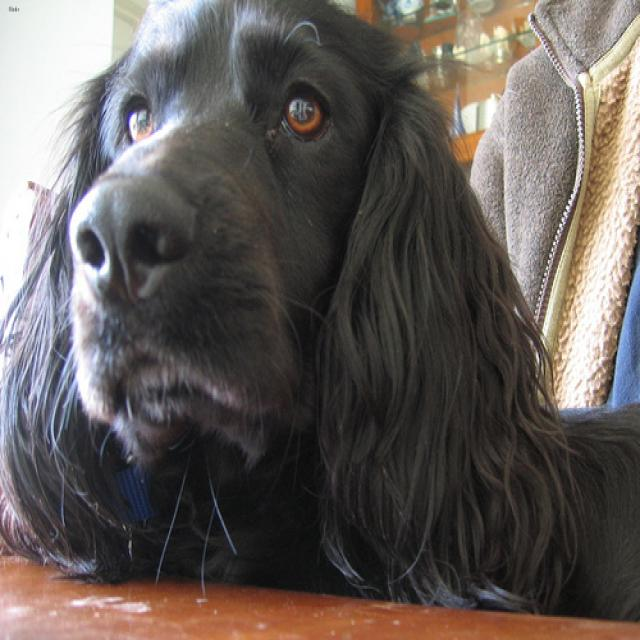dog-english_cocker_spaniel: (1, 2, 637, 633)
